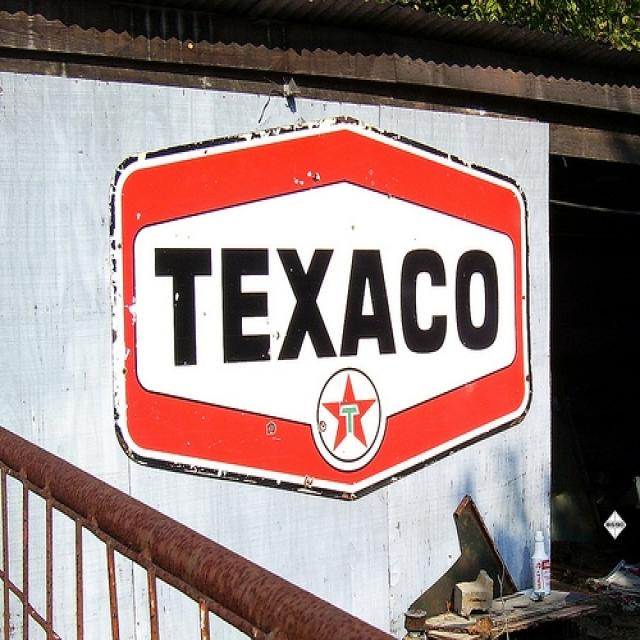texaco: (312, 369, 385, 463)
